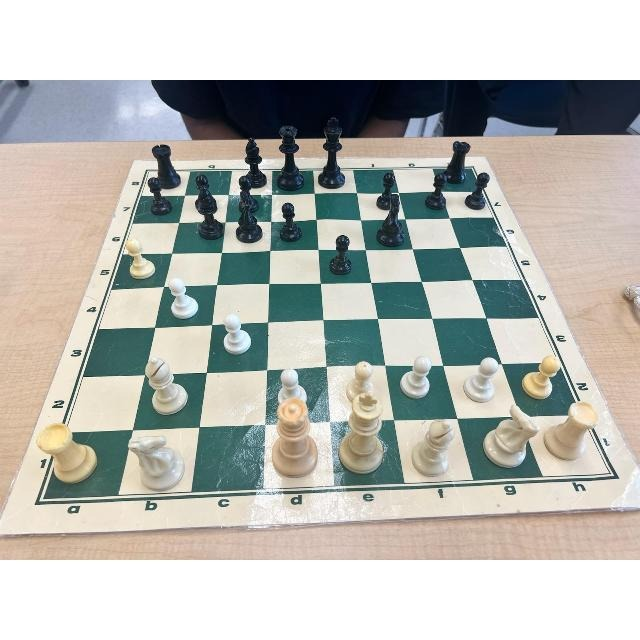black-bishop: (190, 185, 225, 241), (237, 132, 268, 188)
black-king: (316, 116, 351, 192)
black-knight: (375, 192, 411, 247), (231, 193, 263, 243)
black-pawn: (188, 173, 220, 211), (145, 176, 173, 216), (276, 201, 302, 243), (374, 170, 401, 210), (464, 169, 490, 210), (424, 173, 449, 211), (329, 233, 352, 274), (234, 175, 260, 211)
black-queen: (273, 124, 307, 192)
black-rook: (148, 144, 182, 190), (441, 141, 471, 185)
white-bishop: (136, 354, 191, 420), (408, 415, 460, 480)
white-king: (339, 392, 391, 476)
white-knight: (478, 405, 541, 471), (125, 430, 191, 491)
white-pawn: (521, 342, 563, 402), (462, 351, 502, 405), (212, 310, 256, 356), (398, 351, 437, 401), (271, 364, 311, 408), (161, 276, 200, 320), (341, 359, 379, 404), (118, 237, 156, 279)
white-queen: (266, 400, 321, 480)
white-rook: (32, 418, 99, 486), (540, 393, 602, 463)
